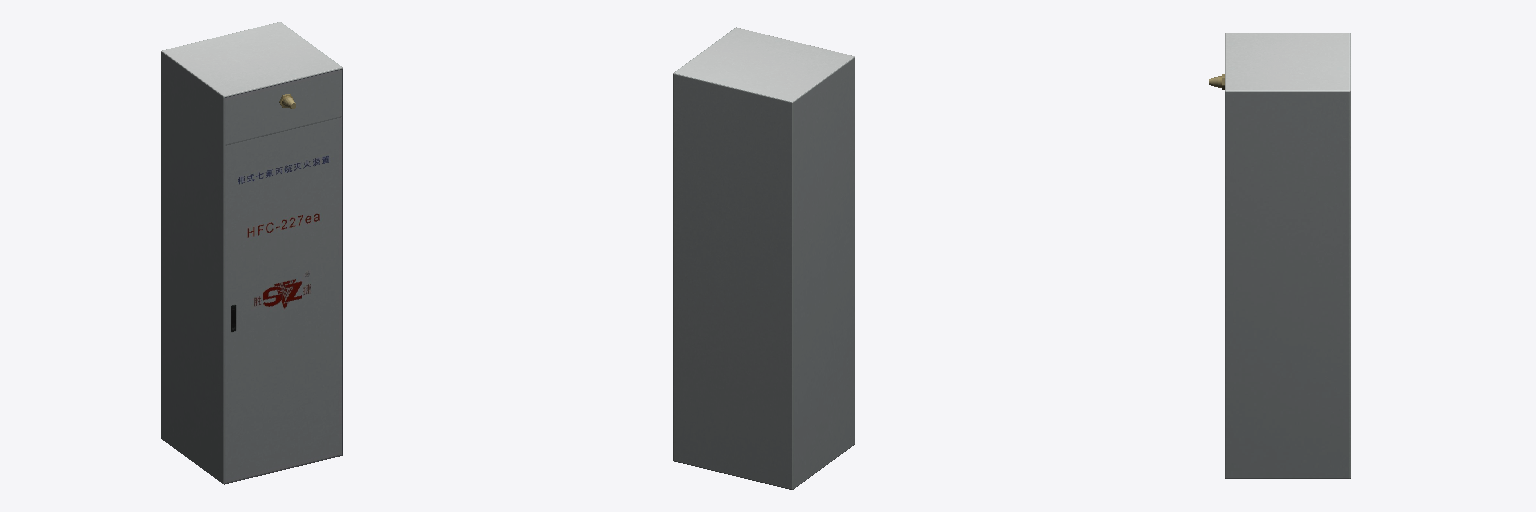
The picture shows the model from 3 angles: view 1: azimuth 30°, elevation 25°; view 2: azimuth 150°, elevation 25°; view 3: azimuth 270°, elevation 25°; orthographic projection.
Parts seen in each view (by area): view 1: ChamferBox22; view 2: ChamferBox22; view 3: ChamferBox22.
Part boxes in pixels (left/top/right/bottom): ChamferBox22: left=161, top=22, right=342, bottom=484; ChamferBox22: left=673, top=27, right=854, bottom=489; ChamferBox22: left=1225, top=33, right=1350, bottom=478.
Size of the model in its own units: 55 by 170 by 56.06.
Materials: 2 (2 with a texture image).